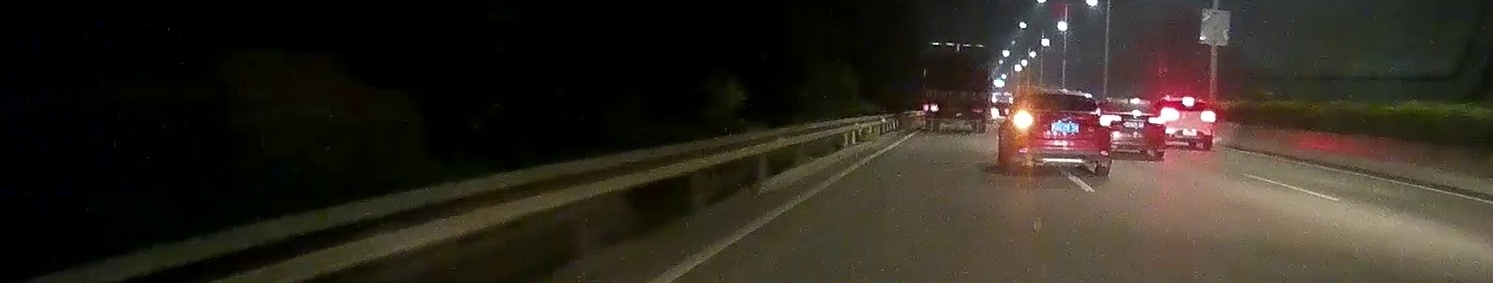L_light: (1013, 116, 1035, 127), (1161, 110, 1179, 119), (923, 104, 939, 112)
R_light: (1092, 117, 1111, 127), (1200, 111, 1215, 122), (971, 107, 986, 114)
T_light: (1052, 93, 1068, 98), (1181, 99, 1195, 104), (951, 47, 963, 51)
night-brake: (1157, 97, 1217, 150)
night-left: (1010, 89, 1112, 177)
night-no: (922, 42, 991, 134)
